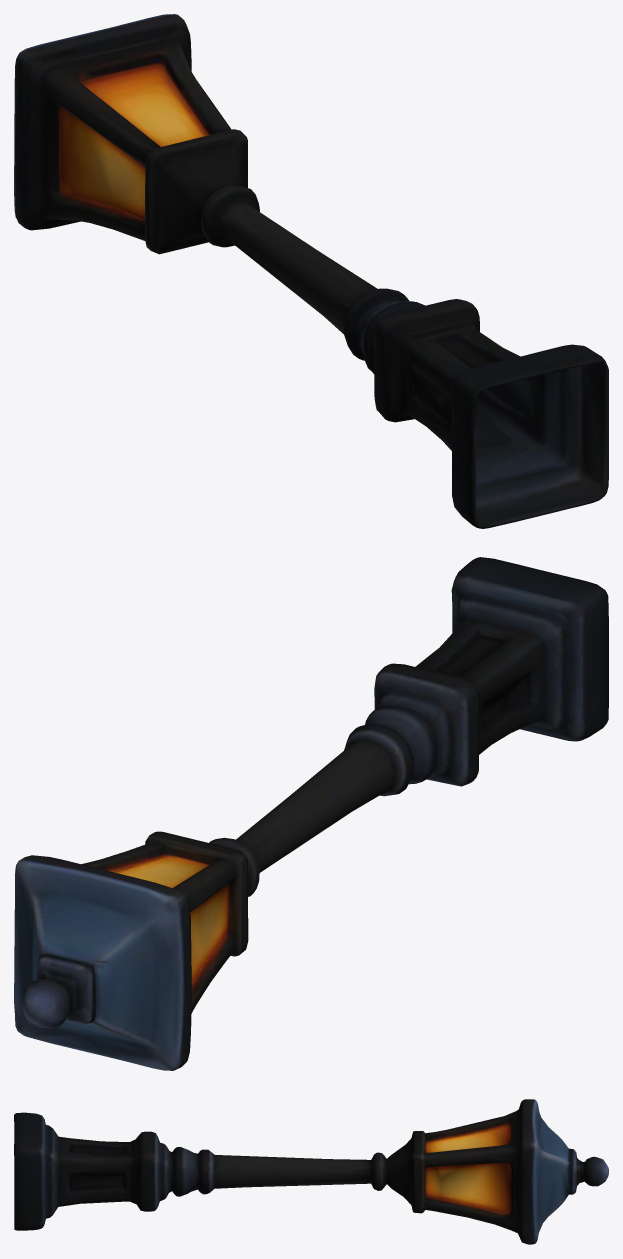
3 renders of one model, top to bottom at view 1: azimuth 30°, elevation 25°; view 2: azimuth 150°, elevation 25°; view 3: azimuth 270°, elevation 25°, orthographic. The views are drawn at different scales.
Parts seen in each view (by area): view 1: material; view 2: material; view 3: material.
Boxes of the visible parts, <box> form: material: <box>14,14,608,528</box>; material: <box>14,557,608,1070</box>; material: <box>14,1099,608,1244</box>.
Size of the model in its own units: 0.1925 by 0.1948 by 1.
1 material, 1 textured.
